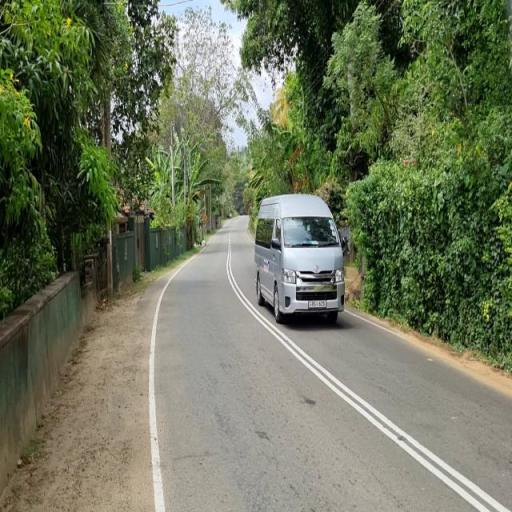double_white_line: (227, 231, 510, 512)
